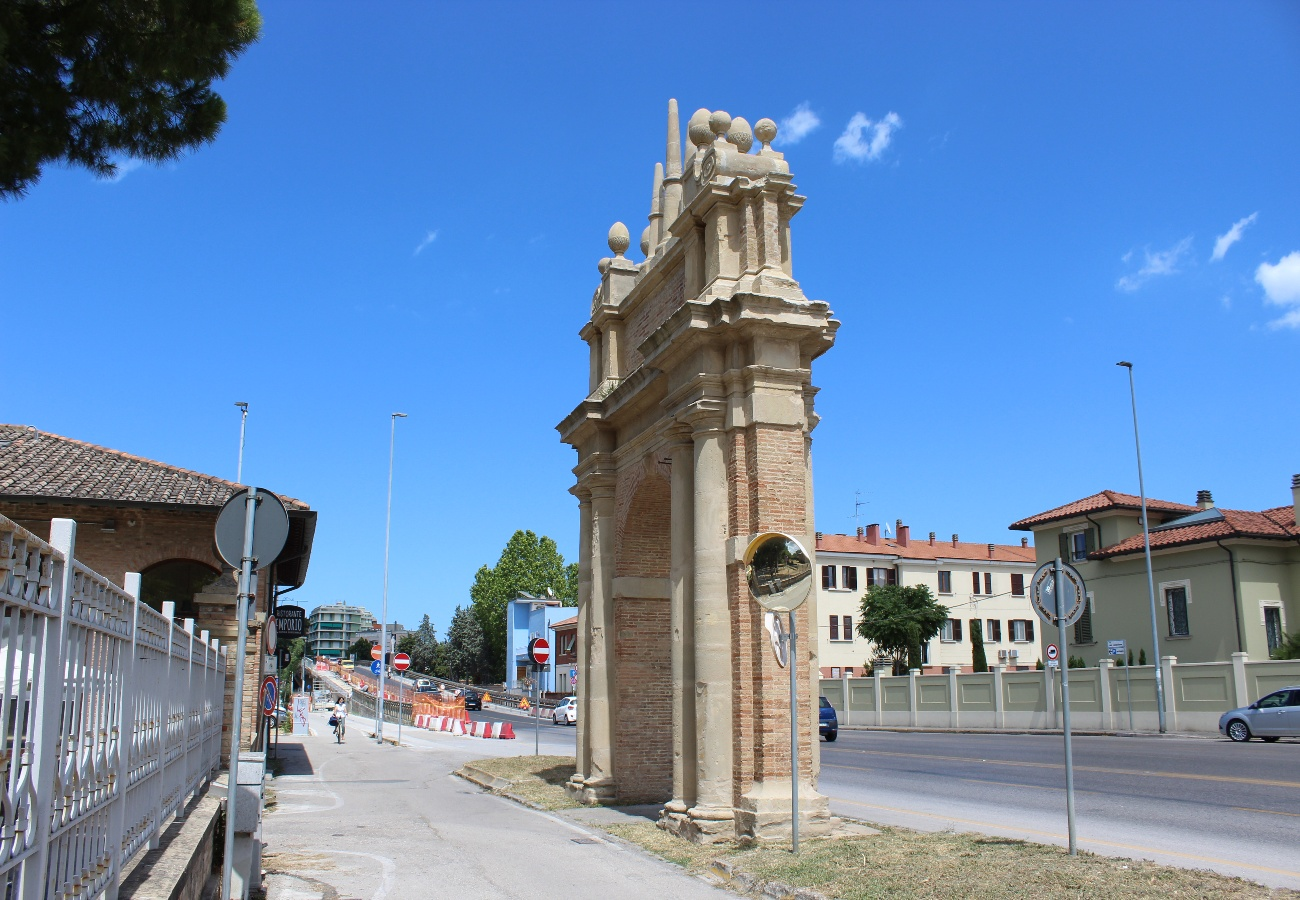Arco di Trionfo: (553, 96, 842, 845)
